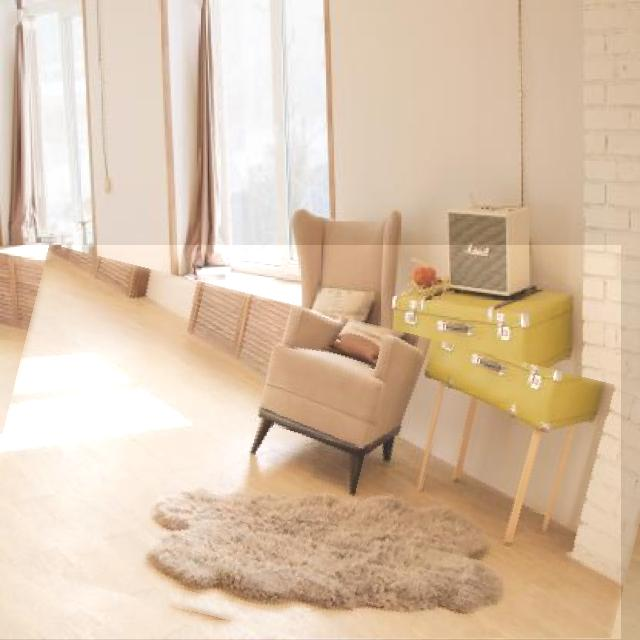floor: (0, 246, 621, 639)
